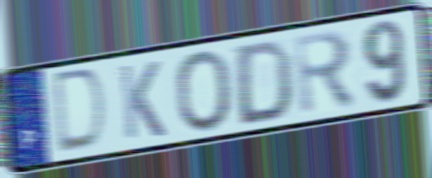9: (362, 16, 412, 107)
D: (235, 37, 295, 129), (53, 65, 110, 158)
K: (117, 58, 168, 142)
O: (172, 47, 234, 134)
R: (292, 27, 359, 119)
